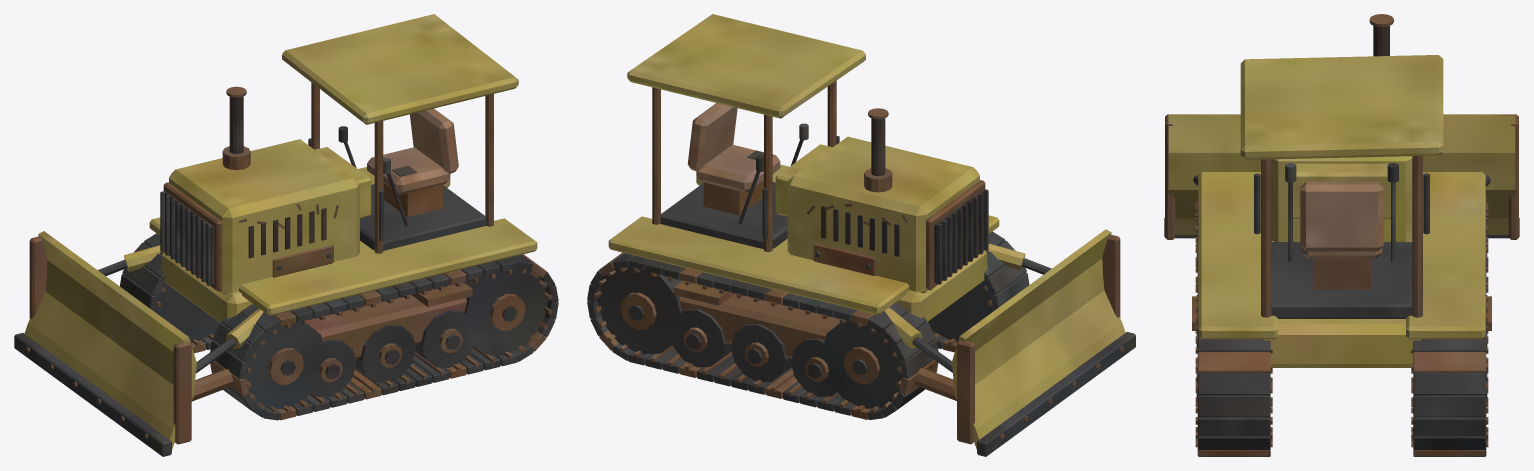
File: CS12_bulldozer.glb
3 views of the same model, side by side, from view 1: azimuth 30°, elevation 25°; view 2: azimuth 150°, elevation 25°; view 3: azimuth 270°, elevation 25° (orthographic). The views are drawn at different scales.
Visible parts, largest first — view 1: Track inner frame; view 2: Track inner frame; view 3: Track inner frame.
Boxes of the visible parts, <box> form: Track inner frame: <box>14,14,558,456</box>; Track inner frame: <box>587,14,1135,456</box>; Track inner frame: <box>1164,14,1519,456</box>.
Bounding box in the file's own units: 5 × 3.14 × 3.13.
Materials: 6 (6 with a texture image).
